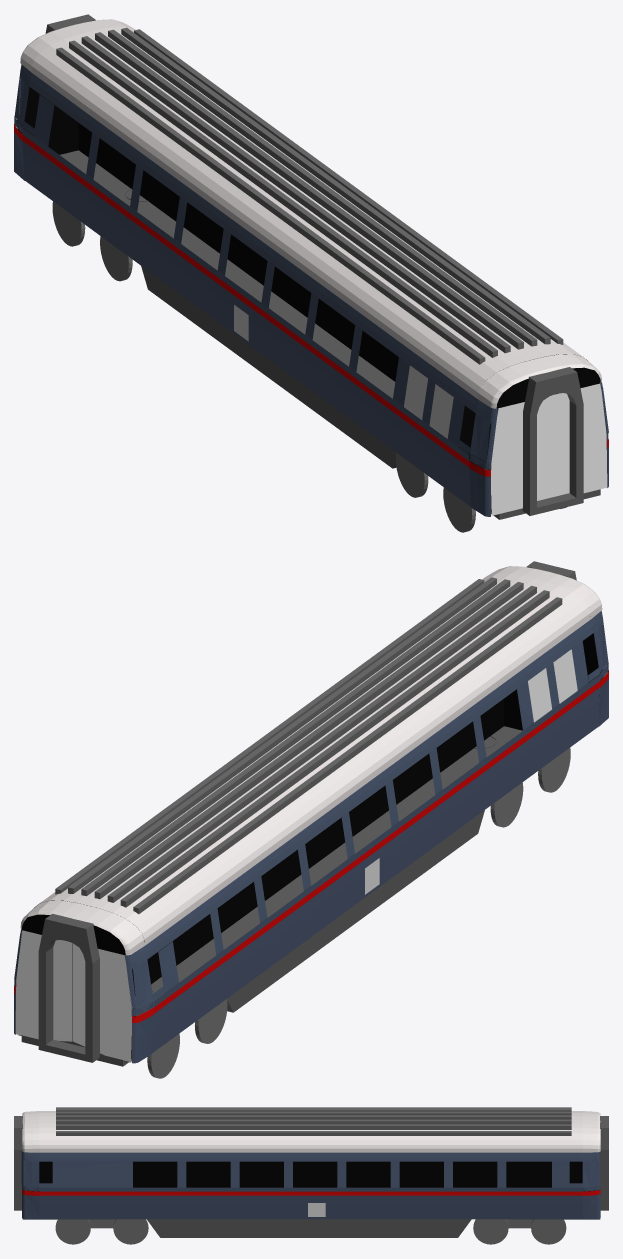
Rendered from br-mk4-to-gner.dae.
3 views of the same model, one above another, from view 1: azimuth 30°, elevation 25°; view 2: azimuth 150°, elevation 25°; view 3: azimuth 270°, elevation 25° (orthographic). The views are drawn at different scales.
Parts seen in each view (by area): view 1: Suzanne_001, Plane_134, Plane_100, Plane_111, Plane_002, Cube_002, Cube_008, Cube_004, Cube_003, Tube_002, Cube_009, Cube (+17 smaller); view 2: Suzanne_001, Plane_134, Plane_001, Plane_111, Plane_002, Tube_003, Cube_002, Cube_008, Cube_004, Cube_003, Cube_009, Cube (+16 smaller); view 3: Plane_007, Suzanne_001, Plane_111, Cube, Plane_153, Cube_009, Cube_010, Plane_022, Plane_005, Plane_152, Cube_004, Cube_008 (+27 smaller).
Boxes of the visible parts, x1=… form: Suzanne_001: x1=31, y1=27, x2=587, y2=398; Plane_134: x1=23, y1=141, x2=470, y2=506; Plane_100: x1=491, y1=383, x2=607, y2=515; Plane_111: x1=78, y1=123, x2=398, y2=381; Plane_002: x1=60, y1=150, x2=486, y2=482; Cube_002: x1=69, y1=40, x2=497, y2=357; Cube_008: x1=95, y1=32, x2=523, y2=349; Cube_004: x1=81, y1=36, x2=510, y2=353; Cube_003: x1=56, y1=47, x2=485, y2=364; Tube_002: x1=522, y1=367, x2=583, y2=515; Cube_009: x1=108, y1=29, x2=537, y2=346; Cube: x1=141, y1=266, x2=396, y2=468; Suzanne_001: x1=34, y1=573, x2=590, y2=945; Plane_134: x1=152, y1=688, x2=599, y2=1053; Plane_001: x1=15, y1=930, x2=132, y2=1062; Plane_111: x1=72, y1=699, x2=503, y2=1041; Plane_002: x1=59, y1=726, x2=522, y2=1055; Tube_003: x1=38, y1=913, x2=99, y2=1062; Cube_002: x1=120, y1=590, x2=549, y2=907; Cube_008: x1=94, y1=582, x2=523, y2=899; Cube_004: x1=107, y1=585, x2=536, y2=902; Cube_003: x1=133, y1=597, x2=562, y2=914; Cube_009: x1=81, y1=579, x2=510, y2=896; Cube: x1=227, y1=810, x2=484, y2=1012; Plane_007: x1=39, y1=1195, x2=582, y2=1219; Suzanne_001: x1=39, y1=1111, x2=582, y2=1152; Plane_111: x1=24, y1=1161, x2=597, y2=1191; Cube: x1=147, y1=1219, x2=471, y2=1237; Plane_153: x1=39, y1=1152, x2=582, y2=1157; Cube_009: x1=56, y1=1119, x2=571, y2=1124; Cube_010: x1=56, y1=1124, x2=571, y2=1129; Plane_022: x1=39, y1=1187, x2=583, y2=1191; Plane_005: x1=39, y1=1191, x2=582, y2=1195; Plane_152: x1=39, y1=1157, x2=582, y2=1161; Cube_004: x1=56, y1=1111, x2=571, y2=1115; Cube_008: x1=56, y1=1115, x2=571, y2=1119.
Size of the model in its own units: 2.07 by 13.39 by 2.81.
